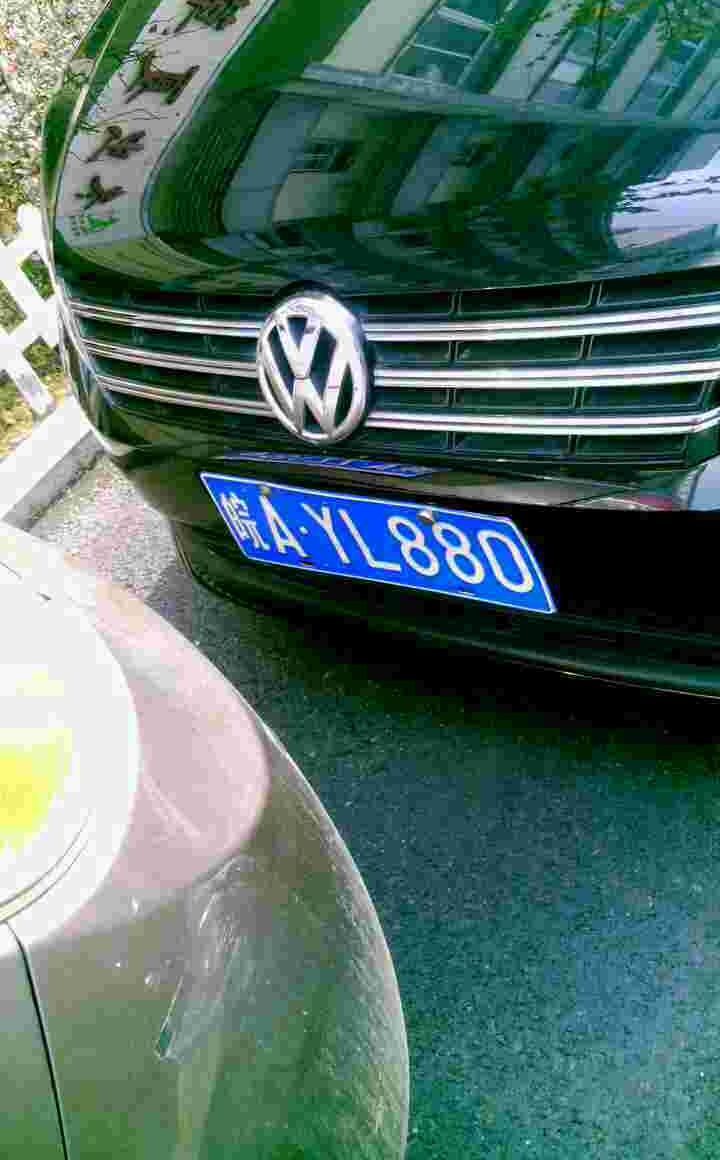license_plate: (214, 466, 559, 616)
